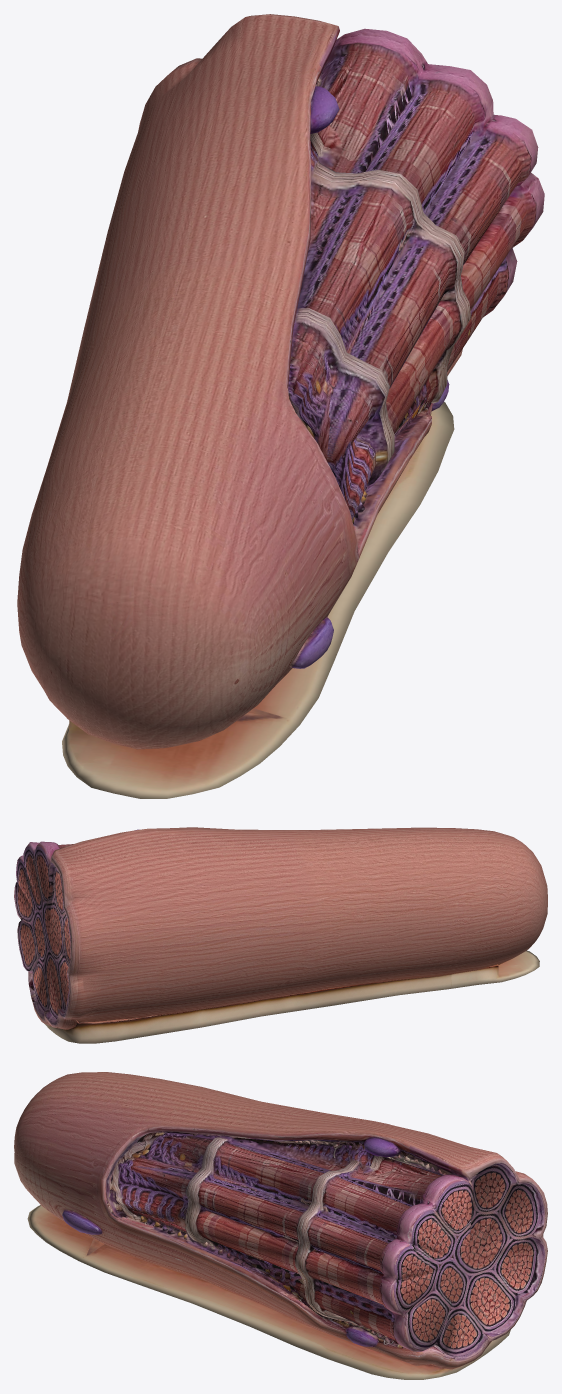
File: muscle-tripo.failed-tripo.glb
3 renders of one model, top to bottom at view 1: azimuth 30°, elevation 25°; view 2: azimuth 150°, elevation 25°; view 3: azimuth 270°, elevation 25°, orthographic. The views are drawn at different scales.
Parts seen in each view (by area): view 1: tripo_node_885eb4fb-bd9d-49eb-8b2f-c944f4fa5a65; view 2: tripo_node_885eb4fb-bd9d-49eb-8b2f-c944f4fa5a65; view 3: tripo_node_885eb4fb-bd9d-49eb-8b2f-c944f4fa5a65.
Part boxes in pixels (left/top/right/bottom): tripo_node_885eb4fb-bd9d-49eb-8b2f-c944f4fa5a65: left=17, top=14, right=544, bottom=798; tripo_node_885eb4fb-bd9d-49eb-8b2f-c944f4fa5a65: left=14, top=827, right=547, bottom=1043; tripo_node_885eb4fb-bd9d-49eb-8b2f-c944f4fa5a65: left=14, top=1072, right=547, bottom=1379.
Bounding box in the file's own units: 0.8466 × 0.3809 × 0.9047.
Materials: 1 (1 with a texture image).
